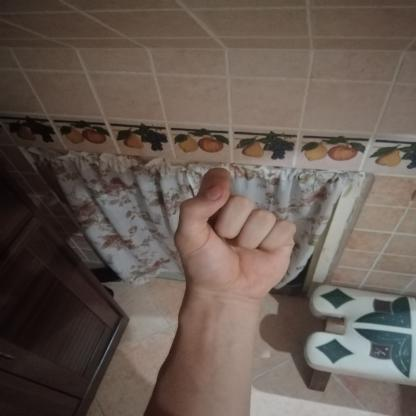FAA: (161, 160, 308, 313)
